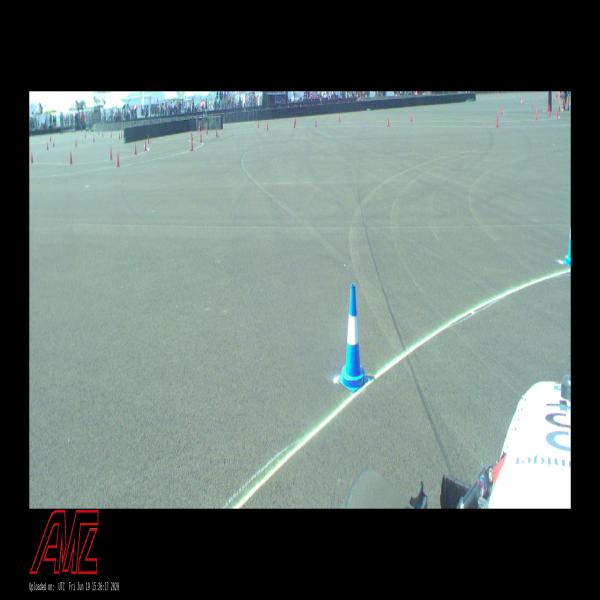blue_cone: (338, 283, 369, 394), (562, 224, 571, 266)
unknown_cone: (116, 150, 120, 168), (109, 146, 113, 161), (496, 109, 499, 128), (69, 150, 73, 164), (190, 137, 194, 151), (30, 150, 34, 163), (198, 119, 202, 131), (190, 130, 194, 141), (144, 138, 147, 152), (215, 126, 218, 138), (134, 142, 137, 154), (387, 116, 390, 127), (410, 111, 413, 122), (293, 118, 296, 129), (294, 116, 297, 126), (266, 121, 269, 131), (147, 134, 150, 144), (120, 129, 123, 139), (535, 108, 537, 121), (200, 130, 202, 143), (556, 106, 558, 118), (548, 105, 550, 116), (500, 104, 502, 115), (315, 117, 317, 128), (206, 125, 208, 135), (257, 118, 259, 128), (75, 138, 77, 148), (338, 114, 340, 123), (93, 134, 95, 143), (47, 142, 49, 150), (102, 130, 104, 138), (110, 131, 112, 138), (53, 138, 54, 148), (532, 100, 533, 109), (119, 132, 120, 140), (85, 132, 86, 138)
